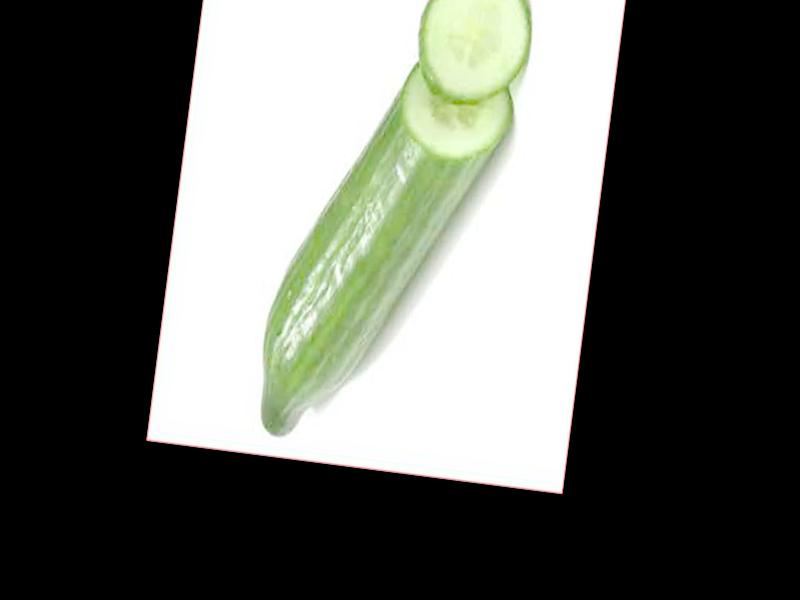Cucumber: (253, 40, 518, 461)
